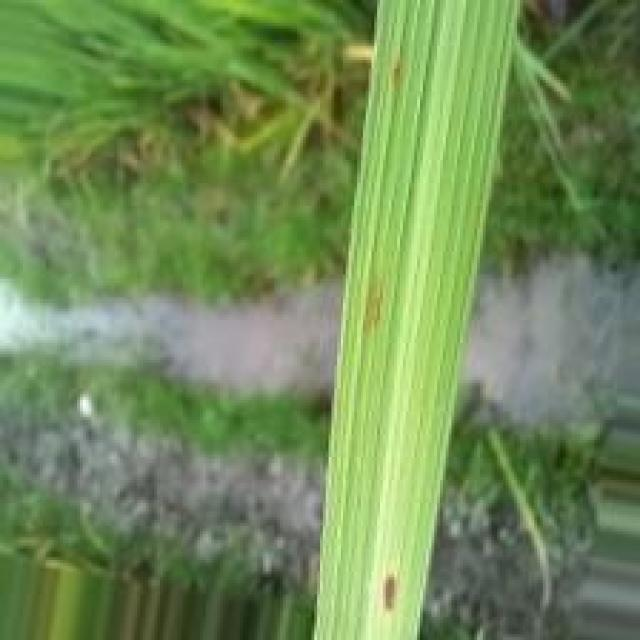Brown_Spot: (380, 568, 400, 616)
